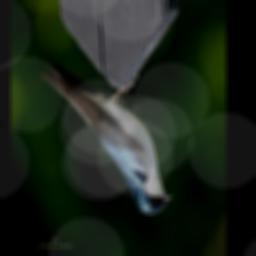Swallow: (41, 61, 173, 215)
